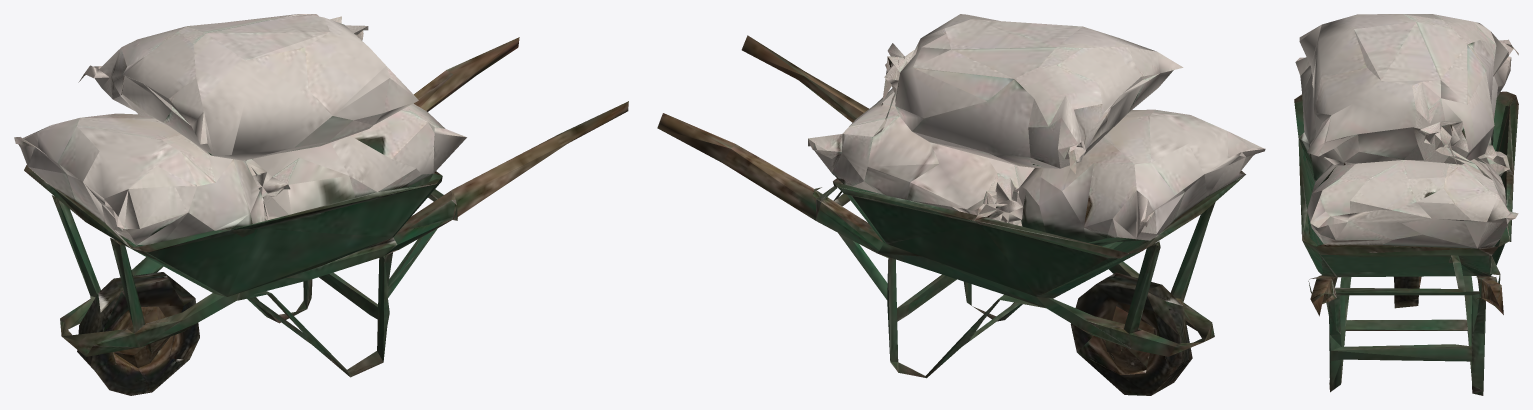
Rendered from barrow.glb.
The picture shows the model from 3 angles, left to right: view 1: azimuth 30°, elevation 25°; view 2: azimuth 150°, elevation 25°; view 3: azimuth 270°, elevation 25°; orthographic projection. The views are drawn at different scales.
Size of the model in its own units: 1.88 by 1.16 by 0.7433.
1 material, 1 textured.
